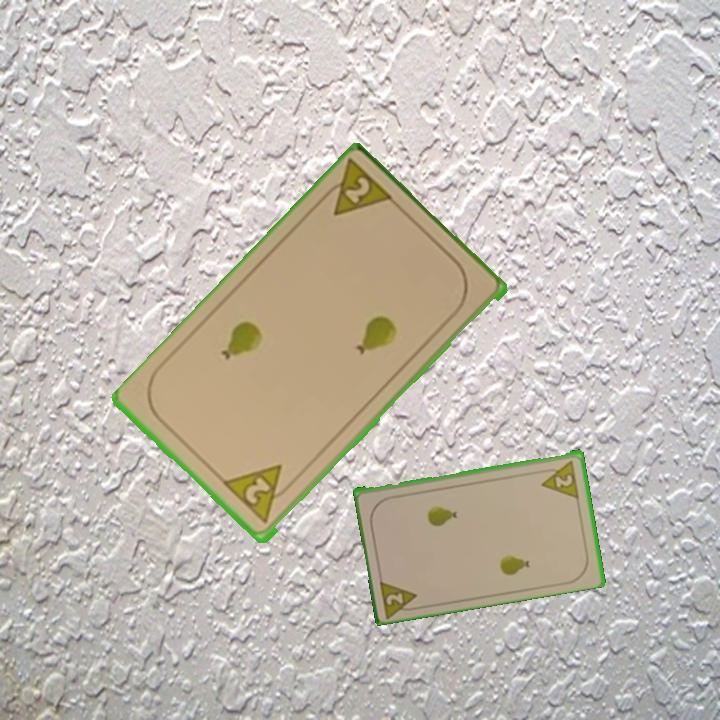2p: (315, 157, 398, 220), (221, 461, 297, 527), (376, 575, 423, 619), (537, 456, 582, 500)
